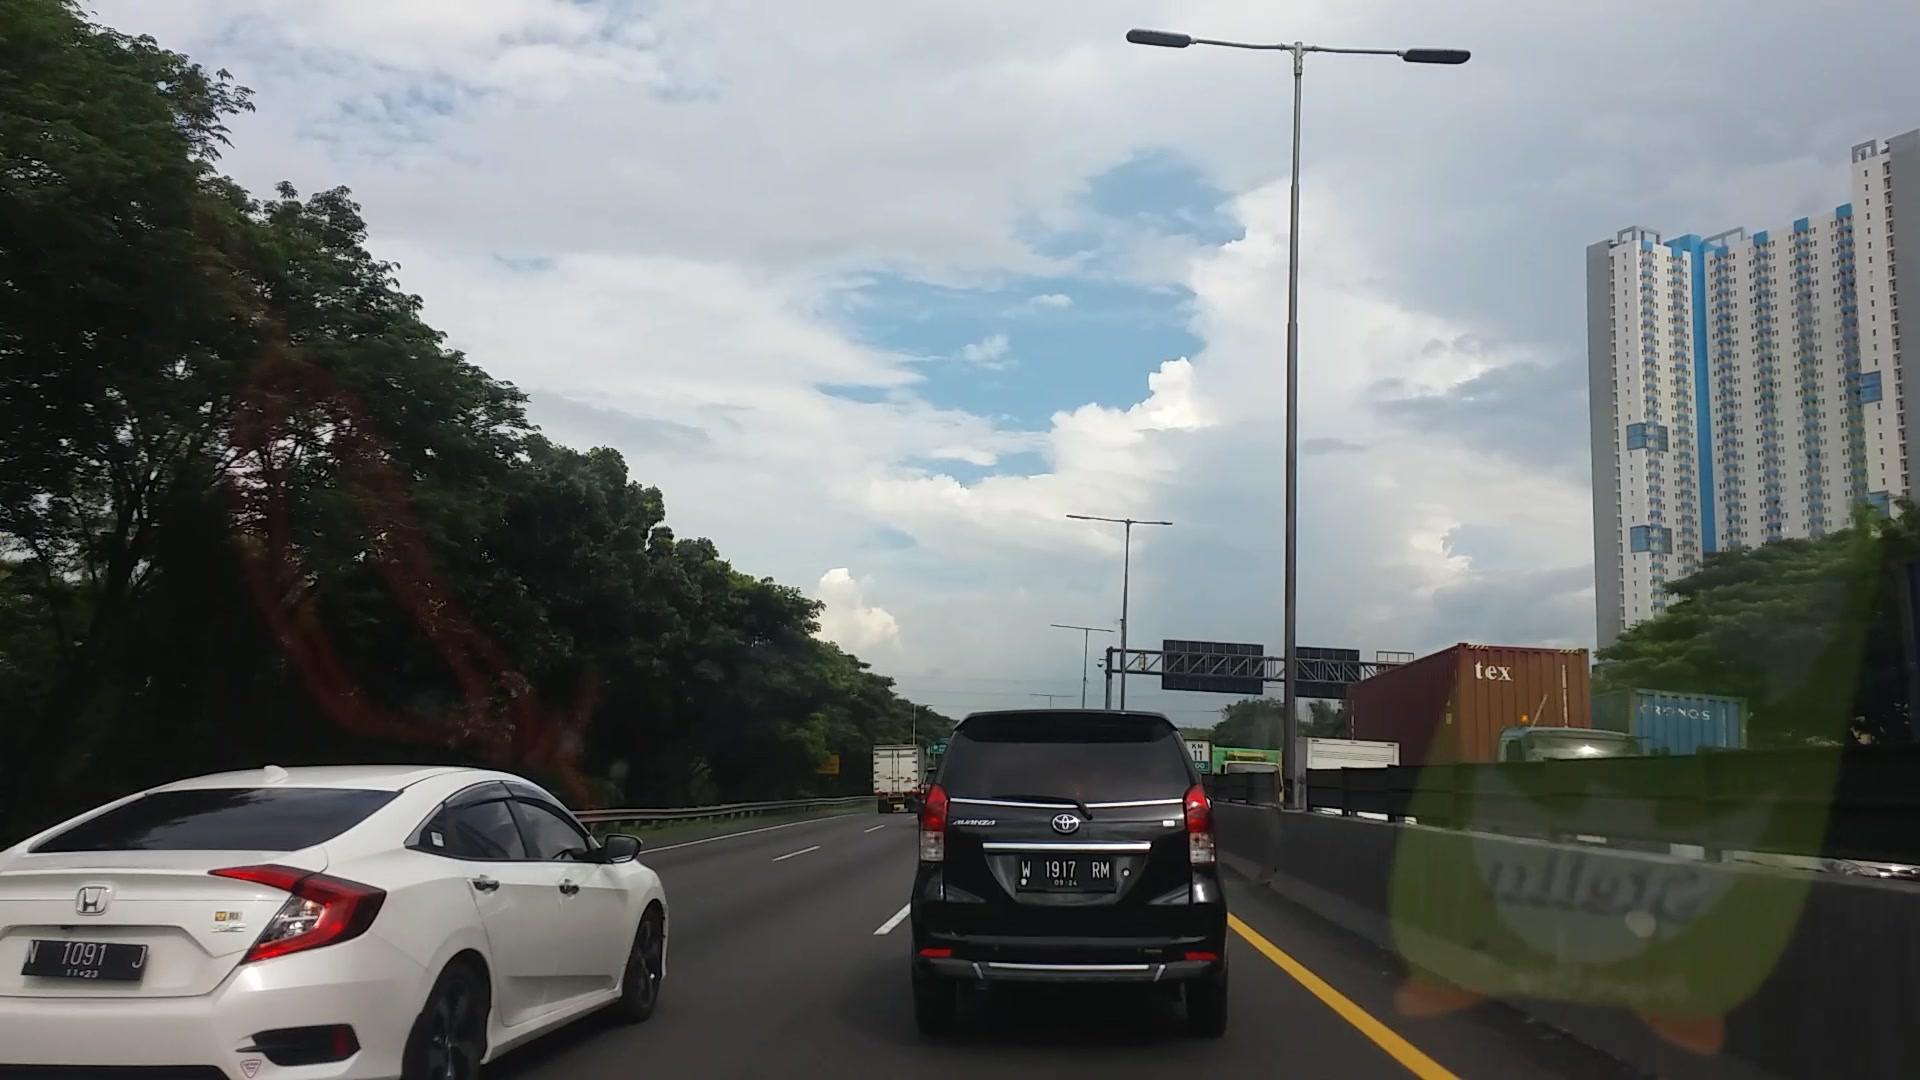plate_positive: (1017, 856, 1113, 887)
